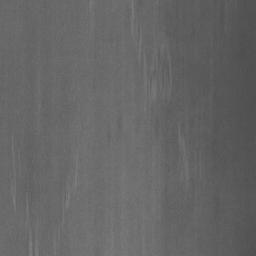Silk spot: (11, 144, 67, 256), (136, 2, 184, 114), (150, 112, 205, 178), (107, 110, 122, 142), (125, 0, 142, 27), (59, 176, 72, 202), (163, 184, 176, 209), (212, 139, 225, 163), (214, 191, 220, 215), (220, 7, 224, 24)
